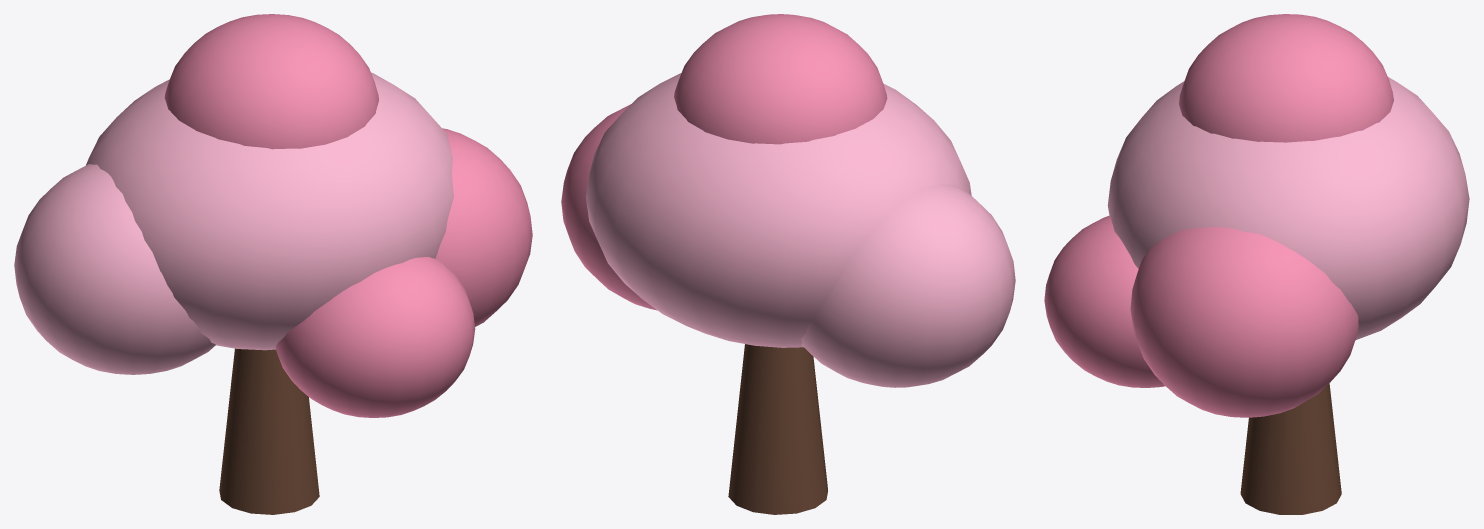
The model's file is tree_blossom.glb.
The picture shows the model from 3 angles, left to right: view 1: azimuth 30°, elevation 25°; view 2: azimuth 150°, elevation 25°; view 3: azimuth 270°, elevation 25°; orthographic projection.
Visible parts, largest first — view 1: Leaves, Tree; view 2: Leaves, Tree; view 3: Leaves, Tree.
Boxes of the visible parts, left/top/right/bottom form: Leaves: left=14, top=14, right=532, bottom=417; Tree: left=219, top=348, right=319, bottom=514; Leaves: left=561, top=14, right=1015, bottom=387; Tree: left=728, top=344, right=827, bottom=514; Leaves: left=1044, top=14, right=1469, bottom=417; Tree: left=1240, top=383, right=1341, bottom=514.
Size of the model in its own units: 1.02 by 0.9958 by 0.8183.
